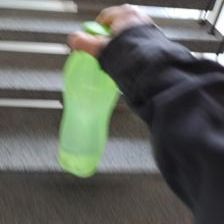bottle: (55, 19, 120, 175)
